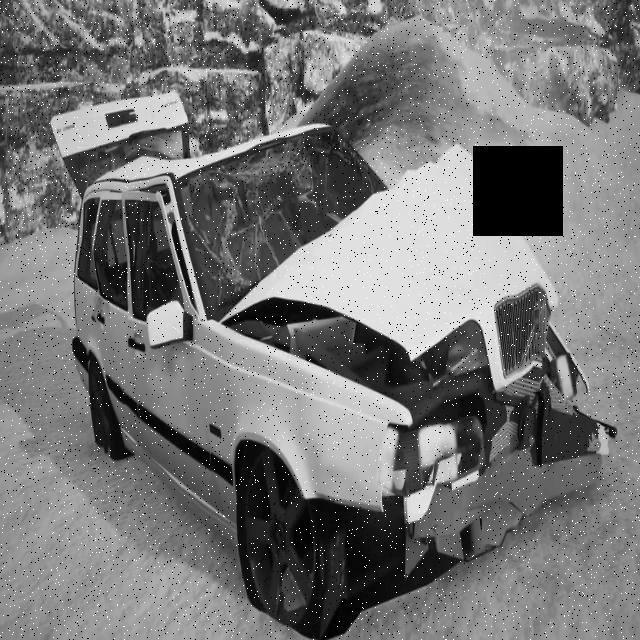vehicle: (18, 61, 564, 570)
